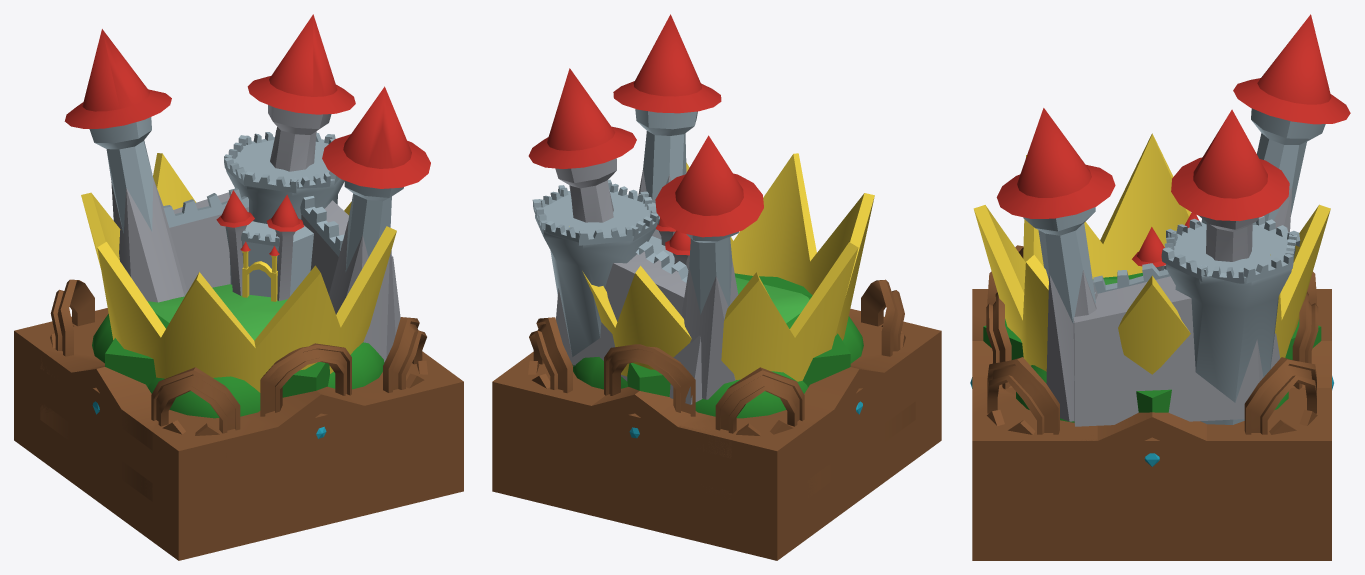
File: Tile_final.fbx
3 views of the same model, side by side, from view 1: azimuth 30°, elevation 25°; view 2: azimuth 150°, elevation 25°; view 3: azimuth 270°, elevation 25° (orthographic). The views are drawn at different scales.
Parts seen in each view (by area): view 1: Cube.008, Cube; view 2: Cube.008, Cube; view 3: Cube.008, Cube.
Boxes of the visible parts, <box> form: Cube.008: <box>37,14,440,504</box>; Cube: <box>14,310,463,560</box>; Cube.008: <box>528,14,918,497</box>; Cube: <box>492,273,941,560</box>; Cube.008: <box>970,14,1350,466</box>; Cube: <box>972,273,1331,560</box>.
Size of the model in its own units: 202 by 268 by 212.
